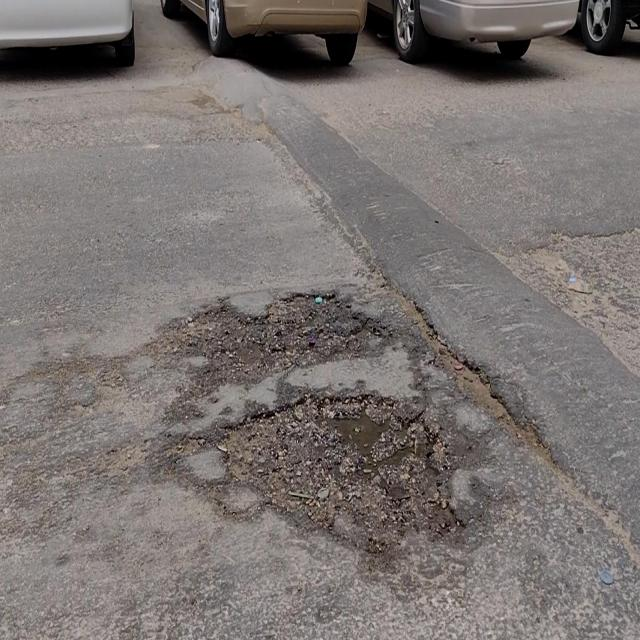Potholes: (217, 381, 467, 544), (183, 283, 391, 387)
